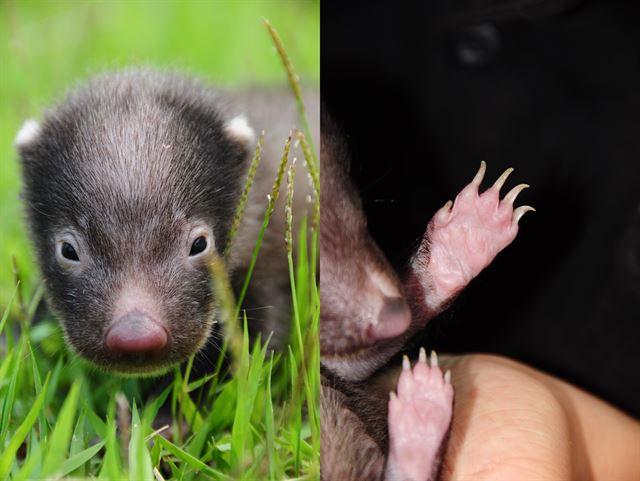badger: (22, 66, 318, 392)
